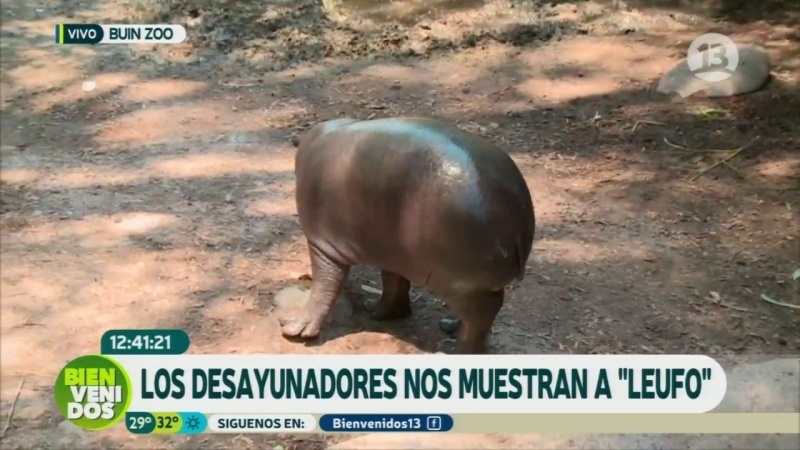hipopotamo: (271, 107, 550, 353)
